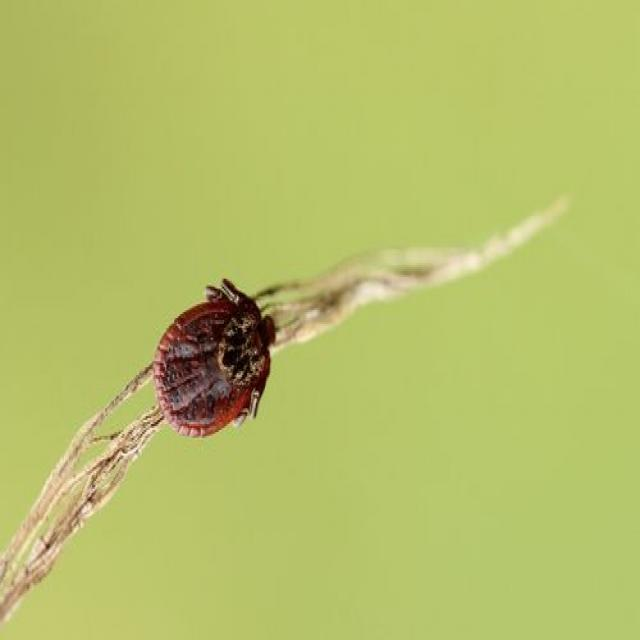Dermacentor Reticulatus-F: (154, 280, 275, 438)
